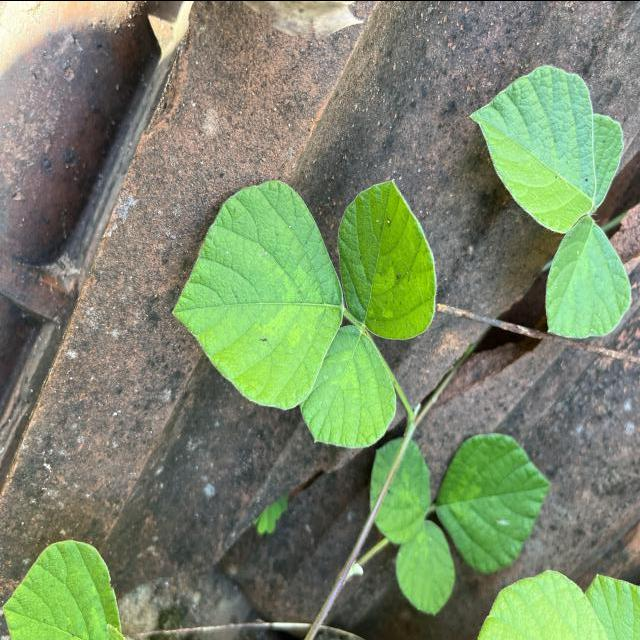Pseudarthria viscida: (170, 170, 440, 450), (366, 430, 554, 620)
